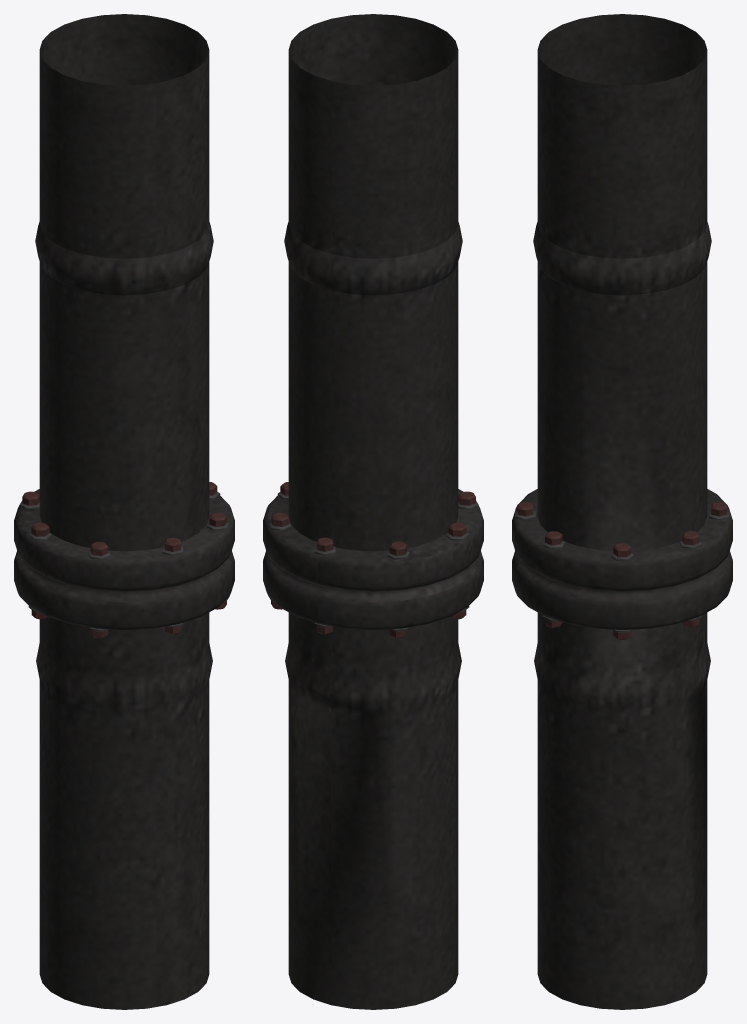
File: pipe_1_short.obj
3 renders of one model, left to right at view 1: azimuth 30°, elevation 25°; view 2: azimuth 150°, elevation 25°; view 3: azimuth 270°, elevation 25°, orthographic.
Parts seen in each view (by area): view 1: pipe_1_short; view 2: pipe_1_short; view 3: pipe_1_short.
Part boxes in pixels (<box>): pipe_1_short: <box>14,14,234,1009</box>; pipe_1_short: <box>263,14,483,1009</box>; pipe_1_short: <box>512,14,732,1009</box>.
Size of the model in its own units: 0.26 by 1.2 by 0.26.
